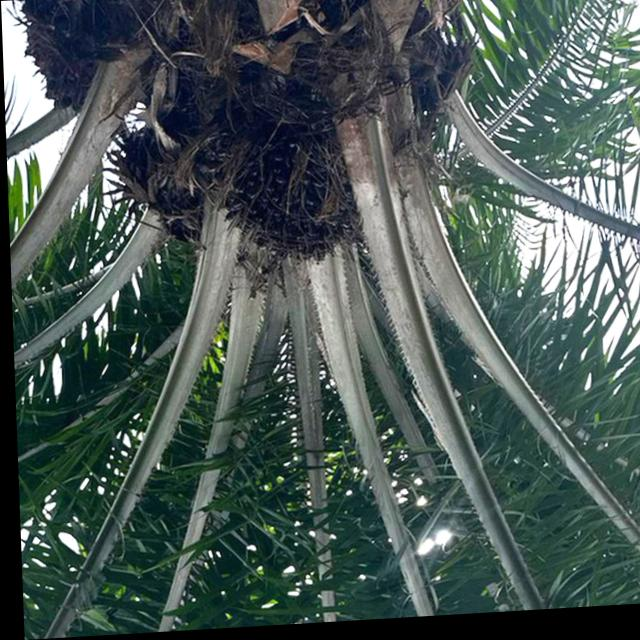almost: (209, 117, 364, 286)
